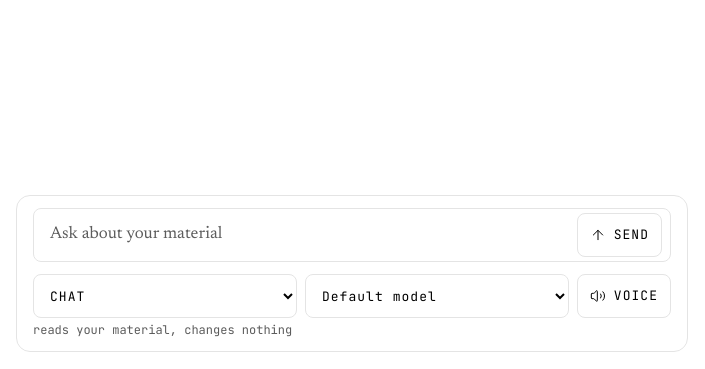
Test: the agent dock › puts the message on the screen before the server has answered
In the text box labelled "Ask about your material": (305,235) 42,213 -> 569,257, type "what is a ring?"
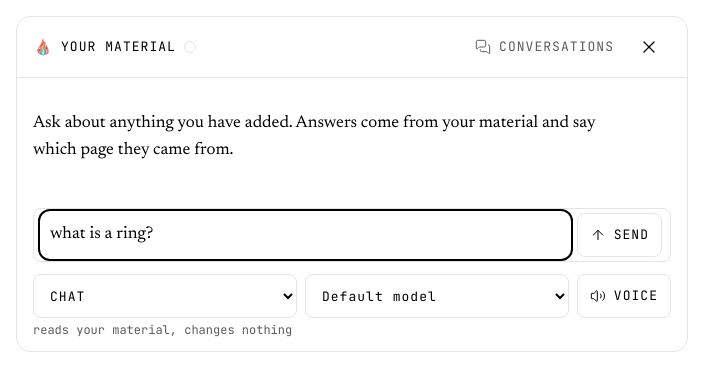
Click the button "Send": (619,235) 577,213 -> 662,257
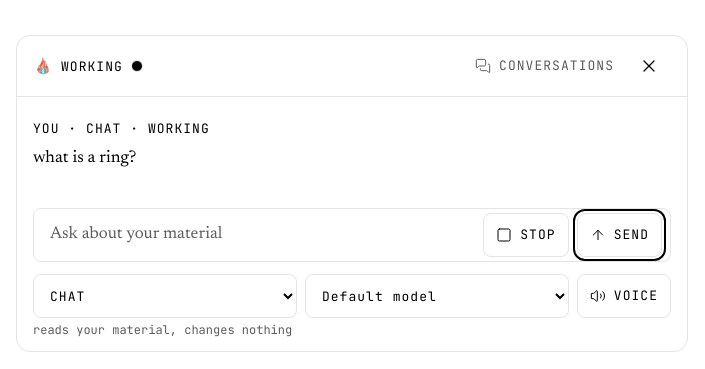
Expected: the text "what is a ring?" is shown, 33,150 -> 136,167
